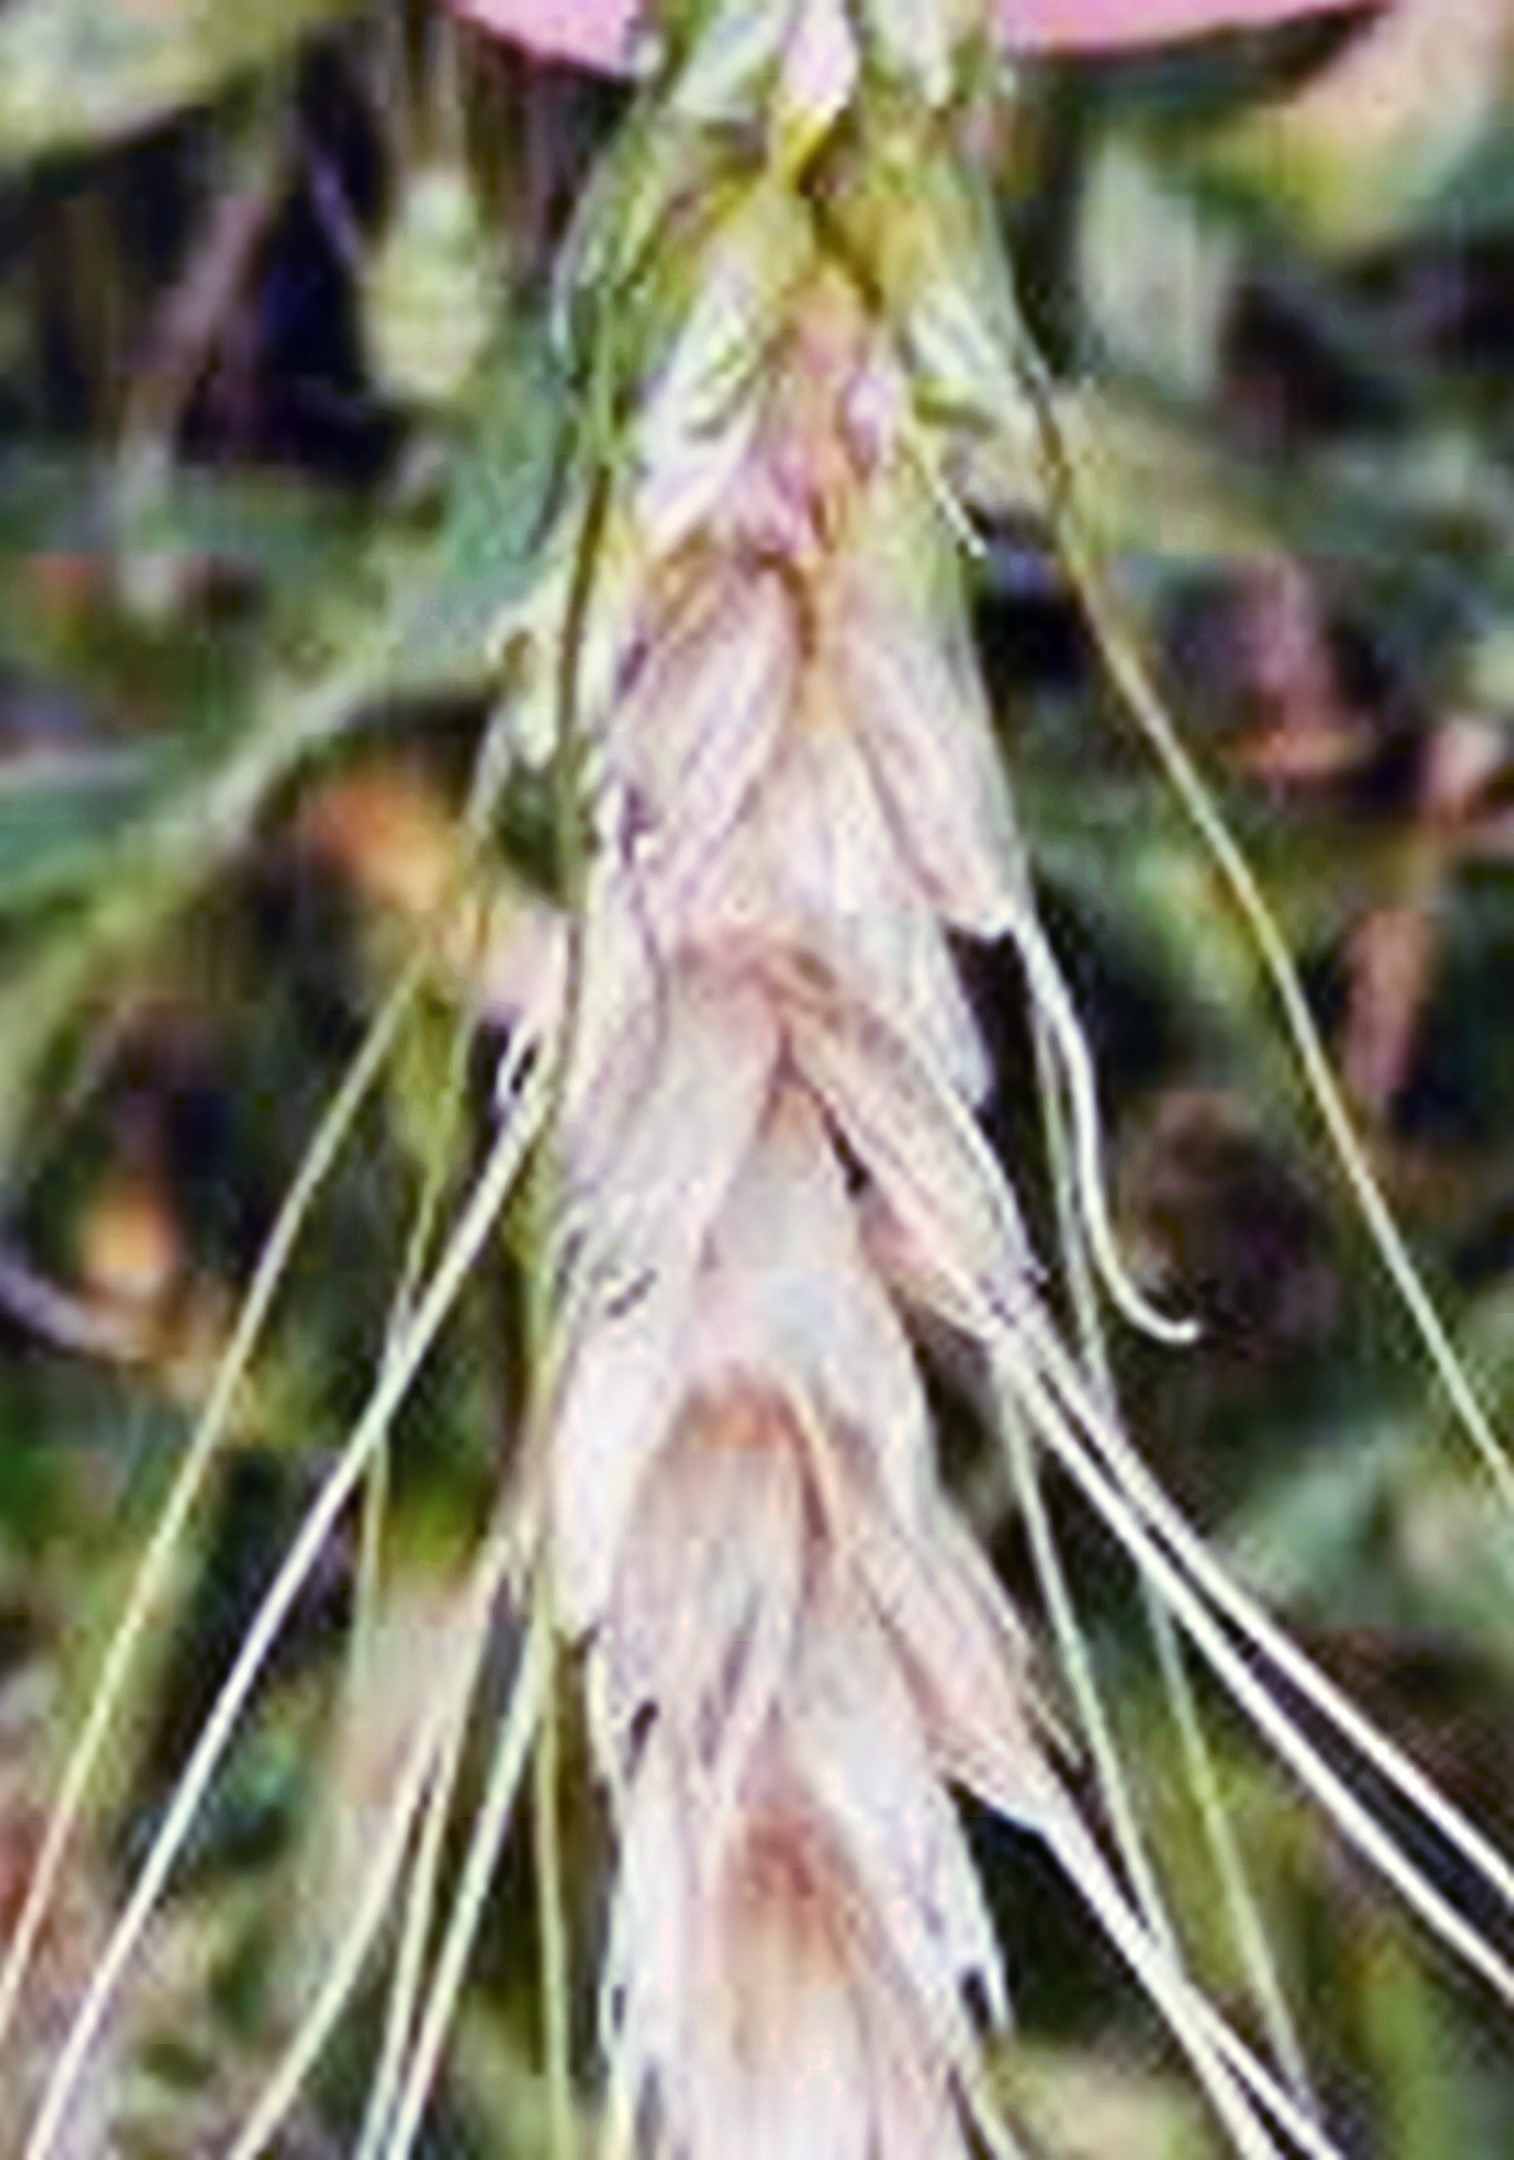Wheat scab: (484, 44, 1090, 2144)
